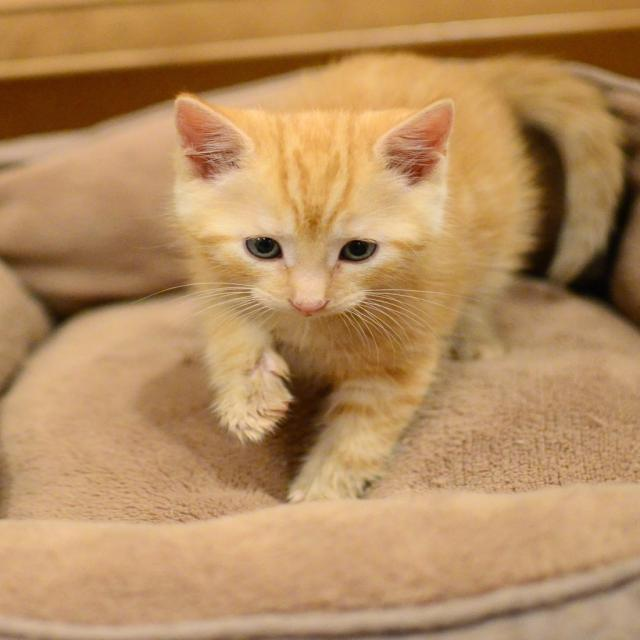Cat: (125, 47, 628, 502)
